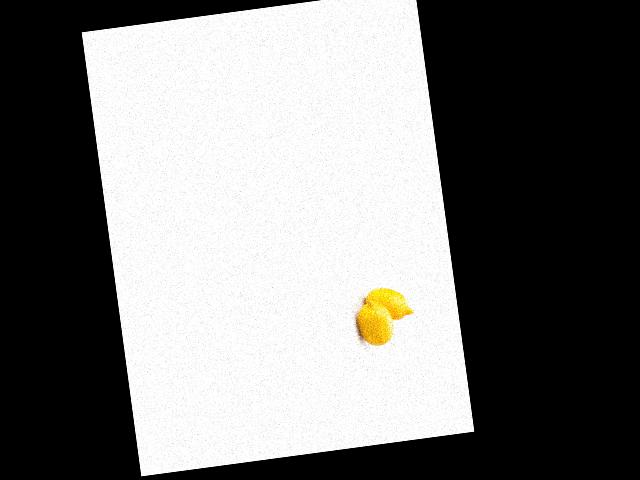lemon: (350, 297, 400, 350)
